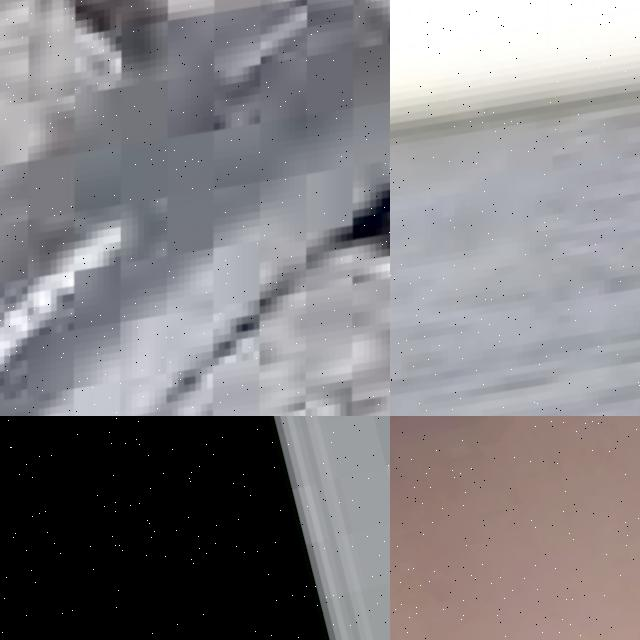0: (0, 0, 390, 416)
drone: (390, 0, 640, 416)
